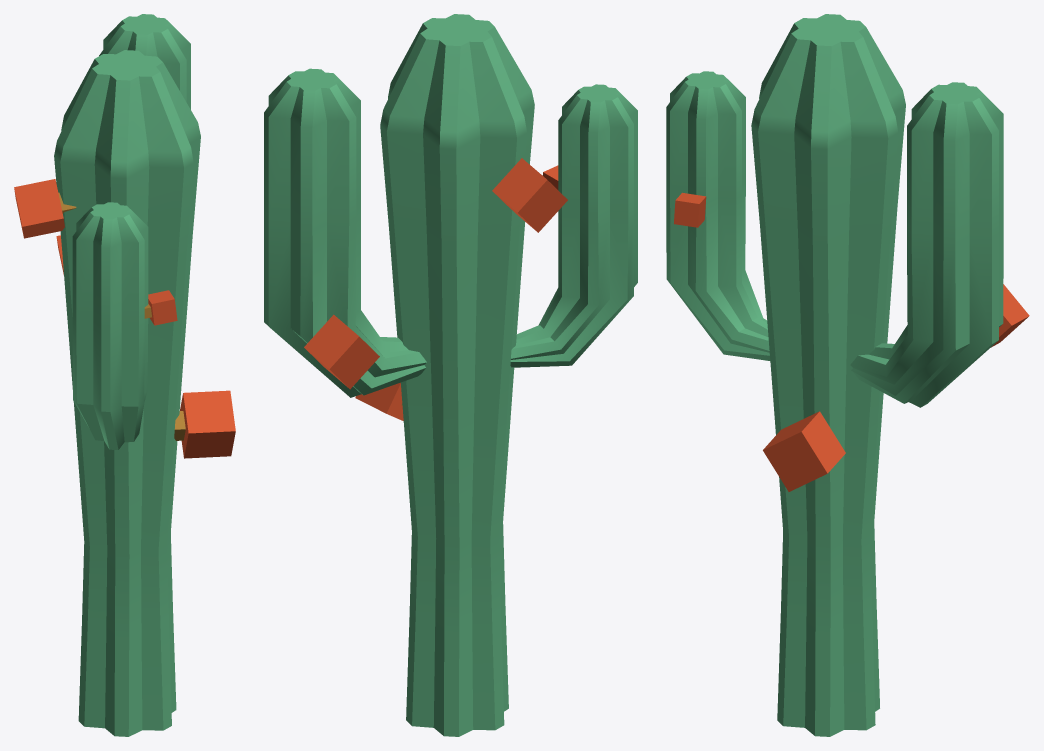
The model's file is cactus_01.fbx.
3 renders of one model, left to right at view 1: azimuth 30°, elevation 25°; view 2: azimuth 150°, elevation 25°; view 3: azimuth 270°, elevation 25°, orthographic. The views are drawn at different scales.
Parts seen in each view (by area): view 1: cactus; view 2: cactus; view 3: cactus.
Part boxes in pixels (x1=…): cactus: x1=14, y1=14, x2=235, y2=736; cactus: x1=264, y1=14, x2=637, y2=736; cactus: x1=666, y1=14, x2=1029, y2=736.
Bounding box in the file's own units: 55.02 × 149 × 71.91.
Materials: 1 (1 with a texture image).
